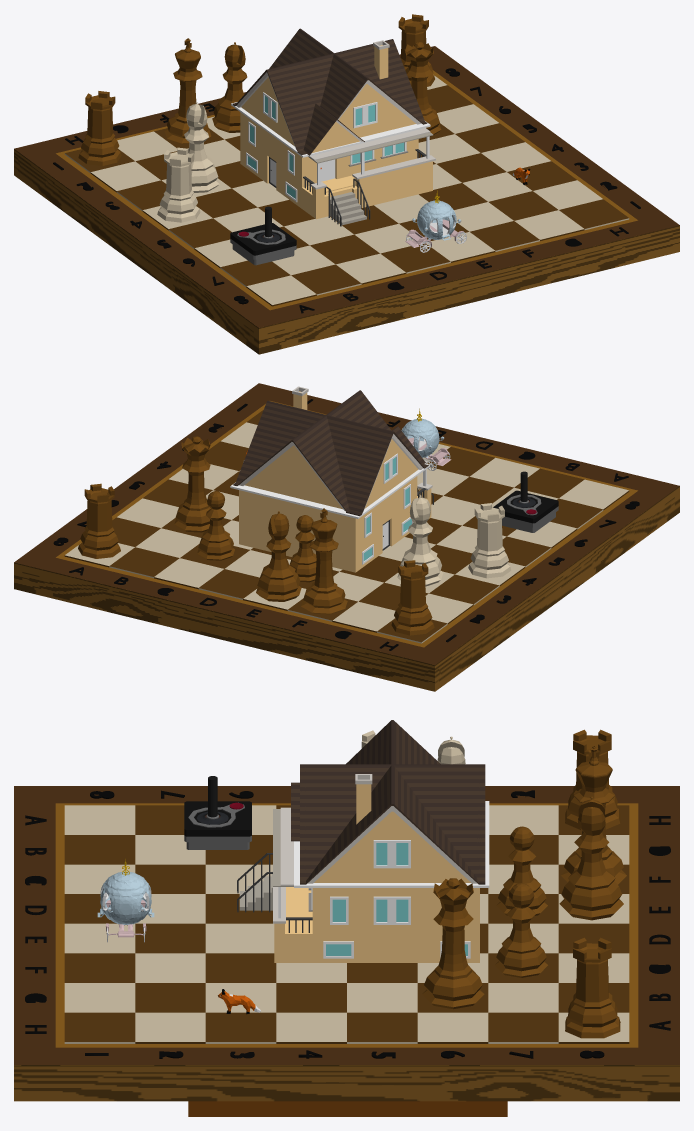
3 renders of one model, top to bottom at view 1: azimuth 30°, elevation 25°; view 2: azimuth 150°, elevation 25°; view 3: azimuth 270°, elevation 25°, orthographic. The views are drawn at different scales.
Parts seen in each view (by area): view 1: Cube.002, Cube.235, OBJRANDOM_JOYSTICK, VEHICLES_FANTASY_CARRIAGE; view 2: Cube.002, Cube.235, OBJRANDOM_JOYSTICK, VEHICLES_FANTASY_CARRIAGE; view 3: Cube.002, Cube.235, UNDERGROUND_ART_PIECE_VAN_GOGH, OBJRANDOM_JOYSTICK, VEHICLES_FANTASY_CARRIAGE.
Part boxes in pixels (x1=…): Cube.002: x1=14, y1=14, x2=679, y2=354; Cube.235: x1=231, y1=28, x2=435, y2=226; OBJRANDOM_JOYSTICK: x1=230, y1=206, x2=296, y2=265; VEHICLES_FANTASY_CARRIAGE: x1=405, y1=190, x2=466, y2=252; Cube.002: x1=14, y1=383, x2=679, y2=691; Cube.235: x1=230, y1=386, x2=433, y2=572; OBJRANDOM_JOYSTICK: x1=493, y1=471, x2=558, y2=532; VEHICLES_FANTASY_CARRIAGE: x1=401, y1=408, x2=451, y2=470; Cube.002: x1=14, y1=729, x2=679, y2=1101; Cube.235: x1=237, y1=720, x2=489, y2=962; UNDERGROUND_ART_PIECE_VAN_GOGH: x1=188, y1=1101, x2=507, y2=1116; OBJRANDOM_JOYSTICK: x1=184, y1=776, x2=251, y2=849; VEHICLES_FANTASY_CARRIAGE: x1=97, y1=859, x2=154, y2=942.
Bounding box in the file's own units: 3981 × 1610 × 4012.
36 materials, 3 textured.
